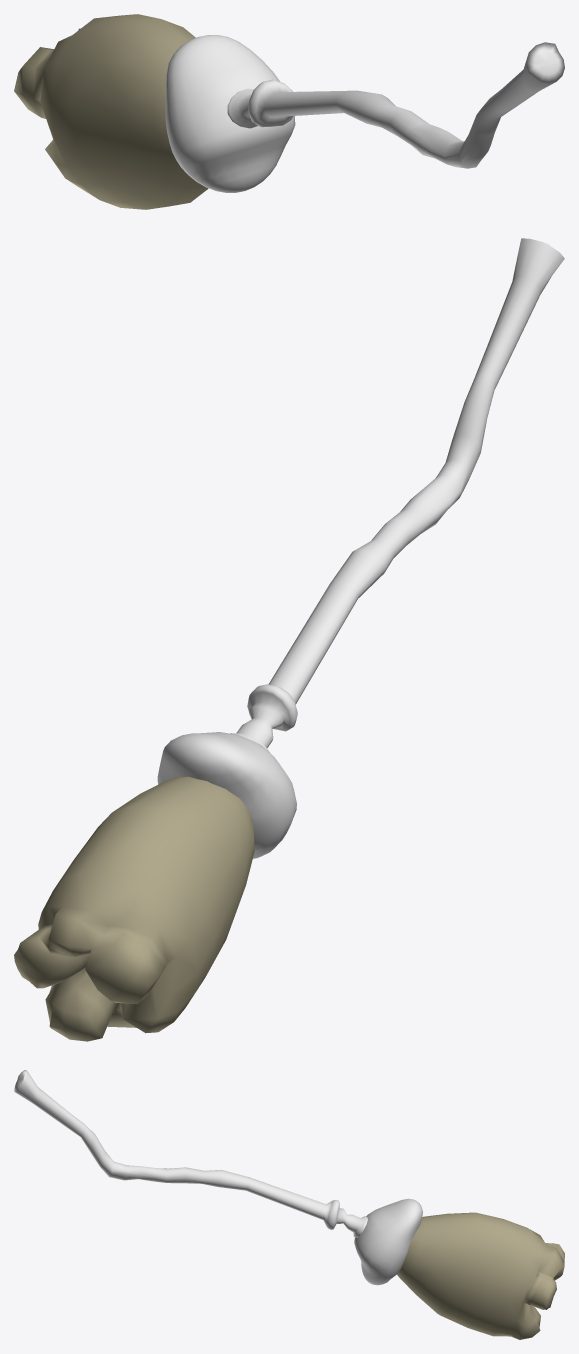
File: broom.fbx
3 renders of one model, top to bottom at view 1: azimuth 30°, elevation 25°; view 2: azimuth 150°, elevation 25°; view 3: azimuth 270°, elevation 25°, orthographic. The views are drawn at different scales.
Parts seen in each view (by area): view 1: broom; view 2: broom; view 3: broom.
Boxes of the visible parts, <box> form: broom: <box>14,14,564,209</box>; broom: <box>14,238,564,1041</box>; broom: <box>14,1070,564,1339</box>.
Bounding box in the file's own units: 2.84 × 8.88 × 16.7.
